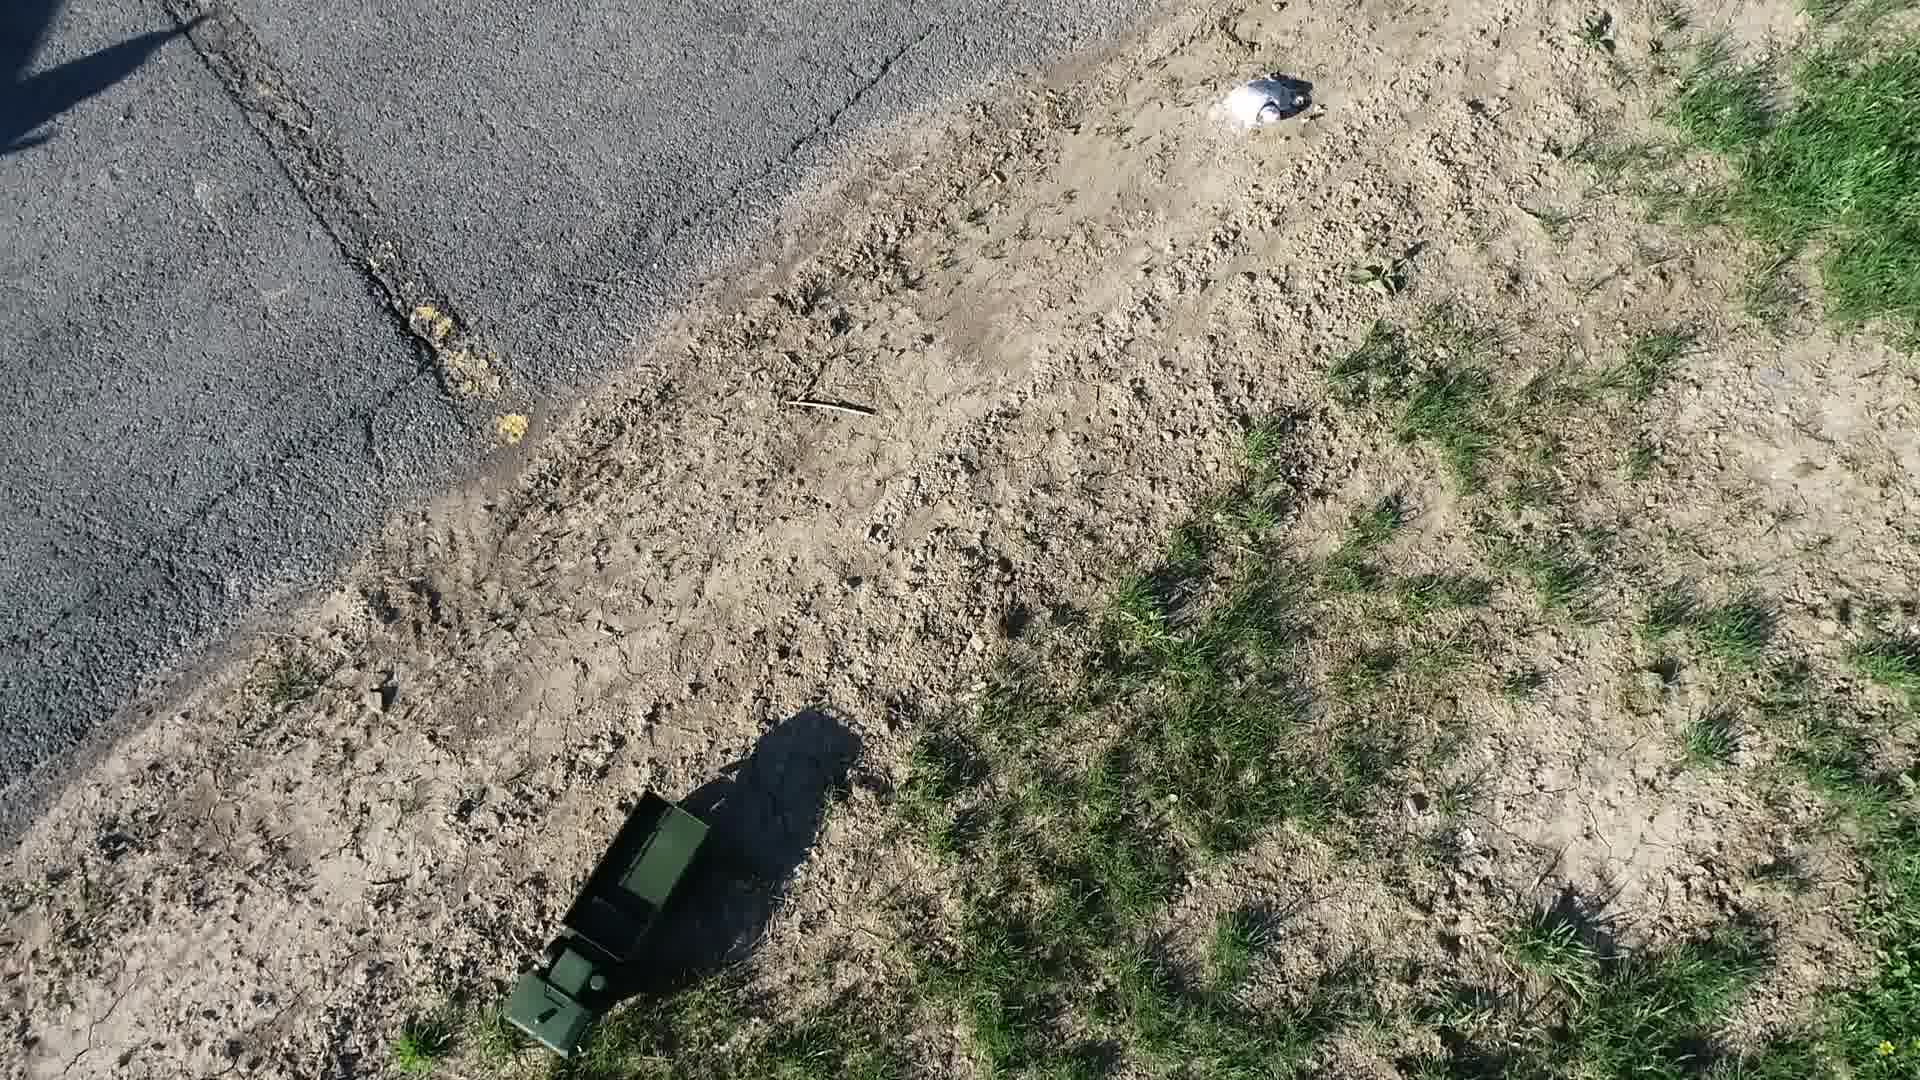transporter9: (485, 779, 744, 1065)
